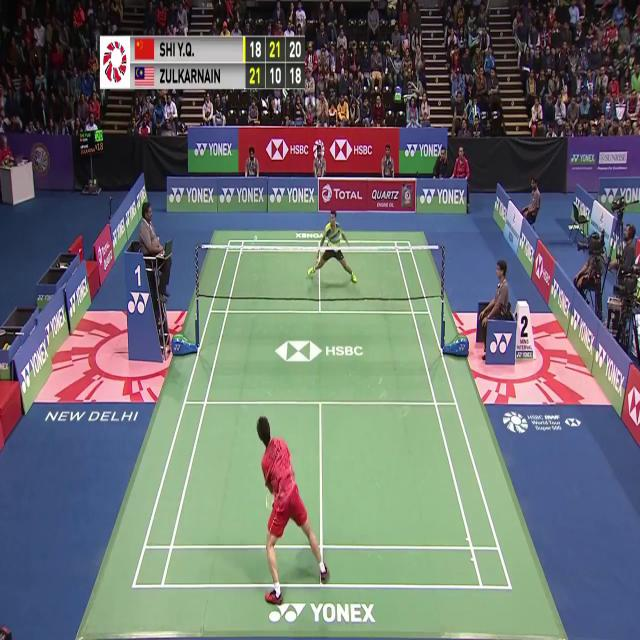Shuttlecock: (253, 232, 259, 243)
